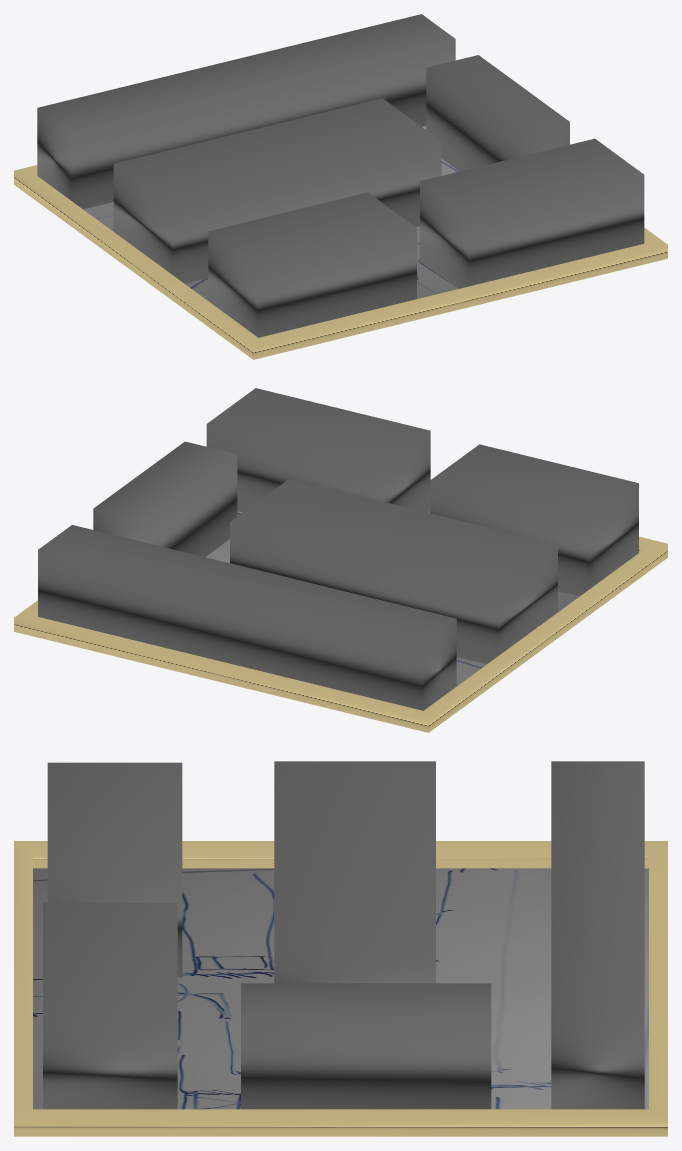
File: level1.fbx
3 renders of one model, top to bottom at view 1: azimuth 30°, elevation 25°; view 2: azimuth 150°, elevation 25°; view 3: azimuth 270°, elevation 25°, orthographic. The views are drawn at different scales.
Visible parts, largest first — view 1: Cube_005, Cube_002, Cube, Cube_001, Cube_004, Cube_003, Plane; view 2: Cube_005, Cube_002, Cube, Cube_001, Cube_004, Cube_003, Plane; view 3: Plane, Cube_002, Cube_004, Cube_005, Cube_003, Cube, Cube_001.
Part boxes in pixels (x1,y1,x2,y2): Cube_005: (37, 14, 455, 209); Cube_002: (113, 98, 441, 283); Cube: (420, 138, 644, 288); Cube_001: (208, 192, 416, 337); Cube_004: (14, 165, 667, 359); Cube_003: (426, 55, 569, 171); Plane: (83, 126, 459, 300); Cube_005: (38, 525, 456, 710); Cube_002: (230, 479, 557, 664); Cube: (206, 388, 430, 512); Cube_001: (430, 444, 638, 596); Cube_004: (14, 536, 667, 732); Cube_003: (93, 441, 237, 556); Plane: (205, 511, 579, 686); Plane: (33, 868, 648, 1109); Cube_002: (274, 761, 435, 983); Cube_004: (14, 841, 667, 1136); Cube_005: (551, 761, 644, 1109); Cube_003: (241, 983, 491, 1109); Cube: (43, 902, 177, 1109); Cube_001: (47, 762, 182, 977).
Size of the model in its own units: 61.82 by 11.34 by 61.82.
Materials: 3 (1 with a texture image).
